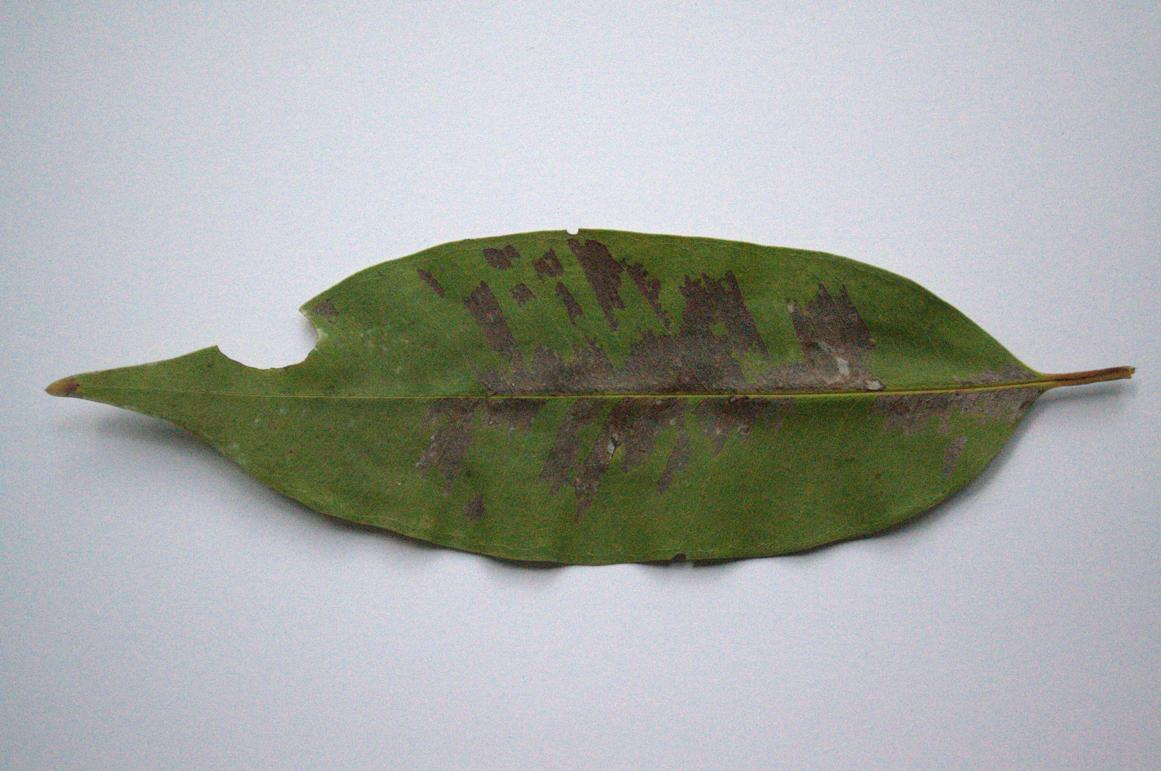late_blight: (419, 238, 1045, 512), (533, 249, 583, 322), (483, 245, 518, 268), (64, 83, 75, 86)
